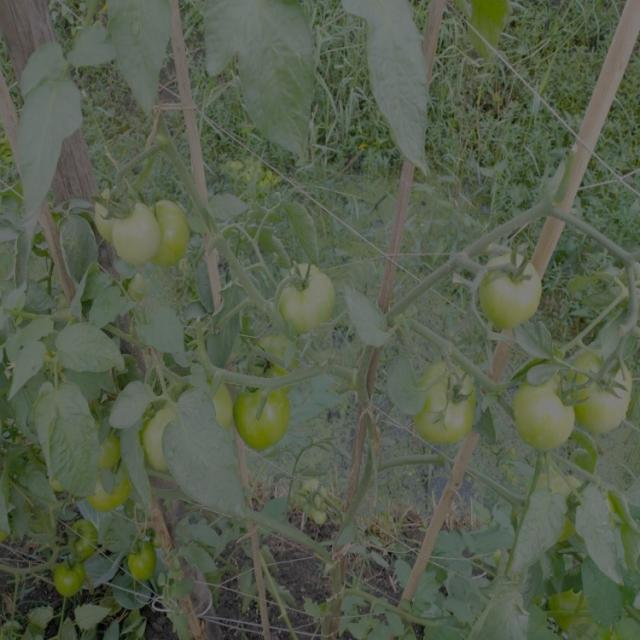tomato: (406, 360, 491, 452), (510, 365, 583, 453), (474, 249, 543, 333), (269, 259, 336, 338), (576, 352, 634, 438), (235, 383, 300, 454), (135, 400, 190, 469), (109, 200, 162, 269), (155, 200, 195, 264), (192, 376, 233, 434), (122, 535, 165, 586), (87, 478, 141, 517), (546, 575, 586, 618), (91, 429, 127, 475), (248, 340, 287, 376), (297, 479, 330, 521), (66, 524, 102, 560), (51, 565, 88, 600), (87, 188, 109, 229)
